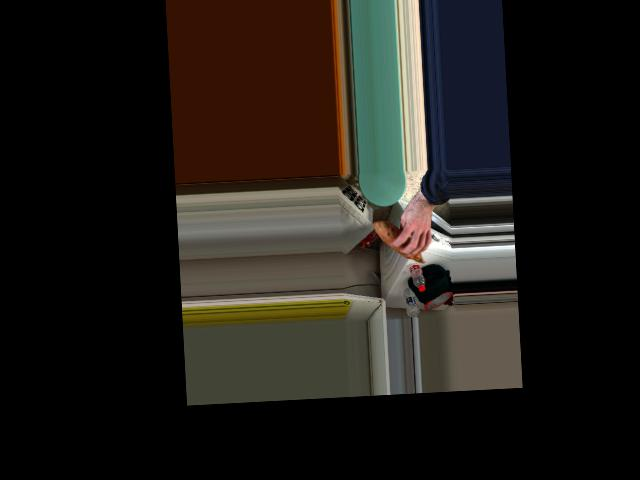sweet_potato: (376, 219, 427, 263)
